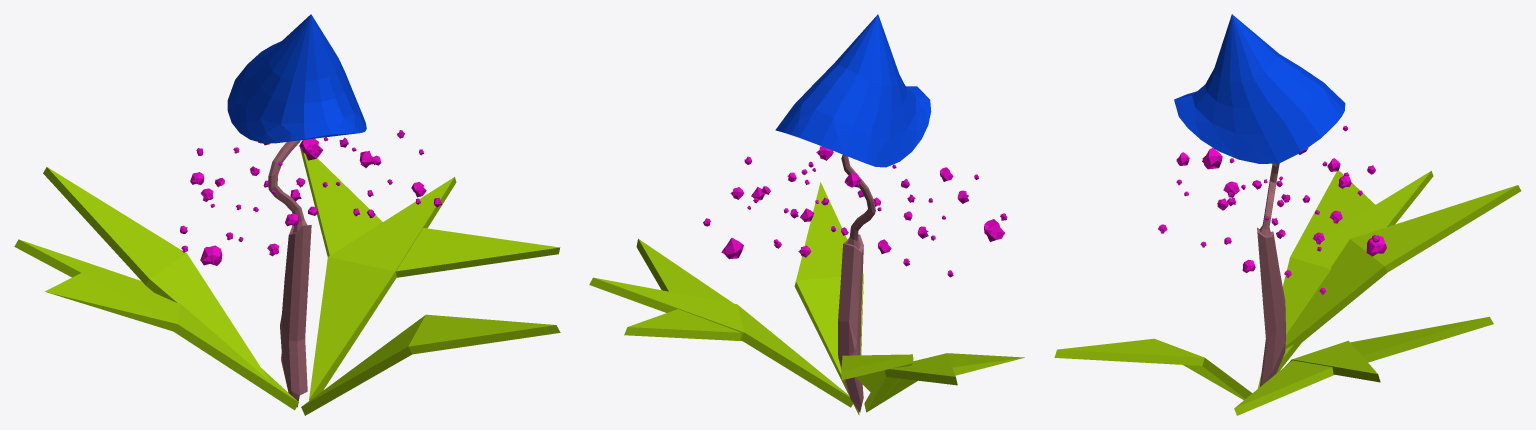
Rendered from plant_04_sporenpilz_state02.gltf.
3 renders of one model, left to right at view 1: azimuth 30°, elevation 25°; view 2: azimuth 150°, elevation 25°; view 3: azimuth 270°, elevation 25°, orthographic. The views are drawn at different scales.
Parts seen in each view (by area): view 1: Plane, Sphere.001; view 2: Plane, Sphere.001; view 3: Plane, Sphere.001.
Part boxes in pixels (box(x1,y1,x2,y2)): Plane: box(14, 14, 560, 415); Sphere.001: box(180, 130, 441, 265); Plane: box(589, 14, 1024, 415); Sphere.001: box(703, 146, 1007, 277); Plane: box(1054, 14, 1521, 415); Sphere.001: box(1158, 125, 1386, 294).
Bounding box in the file's own units: 0.4094 × 0.3505 × 0.3801.
